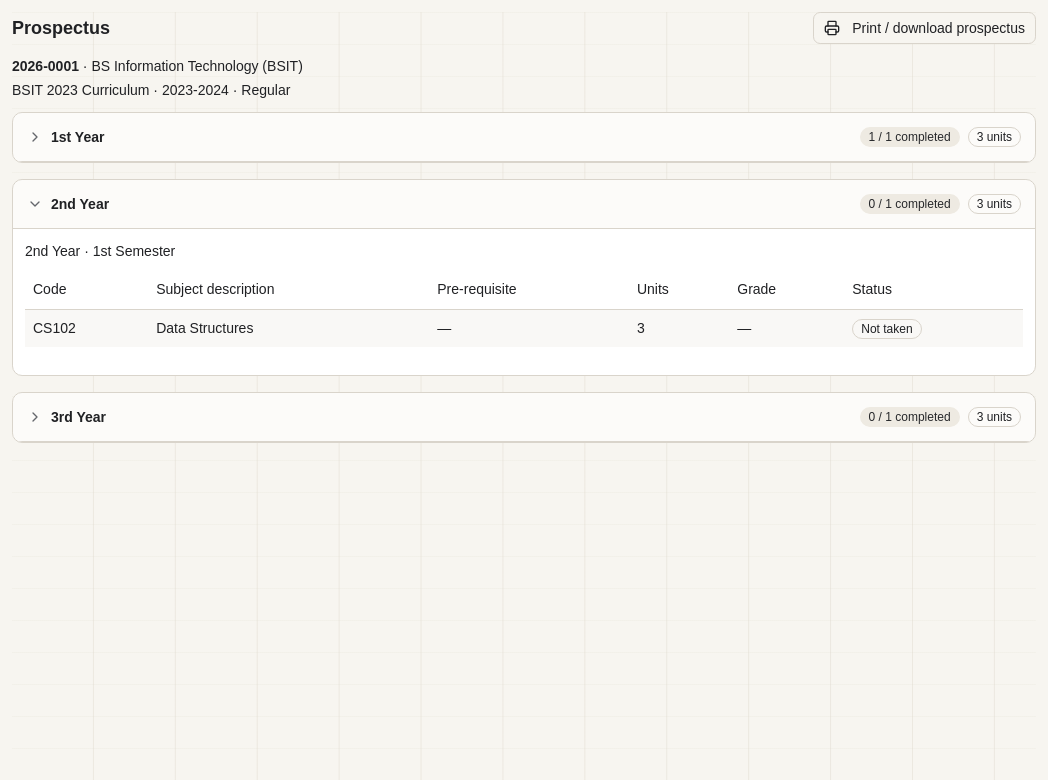
ProspectusDocument › year accordion and phone disclosure (stakeholder Doc 13, Doc 20) › lets the user open and close any year, and keeps collapsed years out of reach
expect the text "2026-0001 · BS Information Technology (BSIT)" is shown: met, box [12,58,303,74]
Click the button "1st Year 1 / 1 completed 3 units" at {"x": 78, "y": 137}, box [13,113,1035,162]
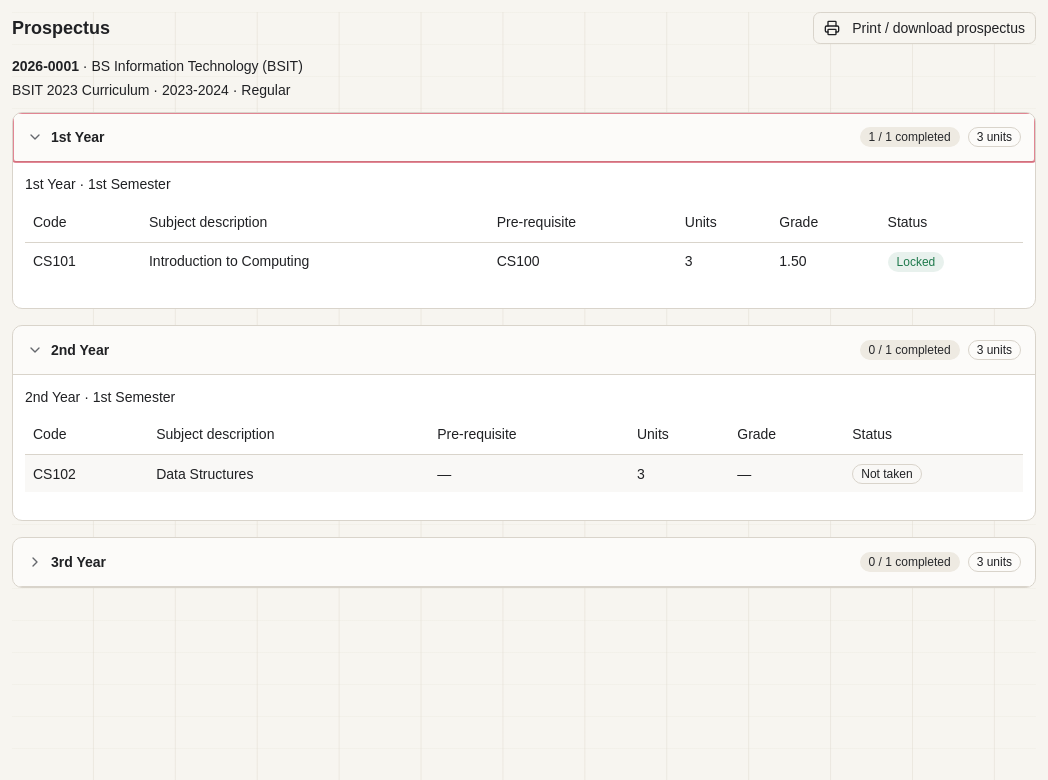
expect the button "1st Year 1 / 1 completed 3 units" is expanded: met, box [13,113,1035,162]
Click the button "2nd Year 0 / 1 completed 3 units" at {"x": 80, "y": 350}, box [13,326,1035,374]
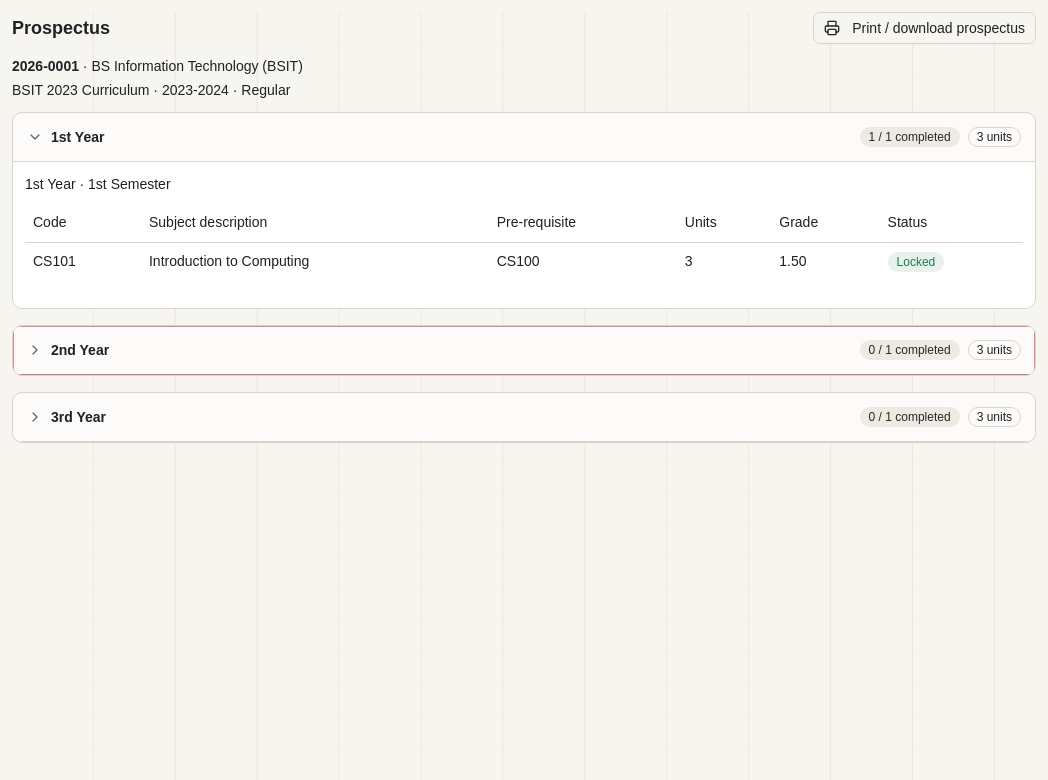
expect the button "2nd Year 0 / 1 completed 3 units" is collapsed: met, box [13,326,1035,374]
